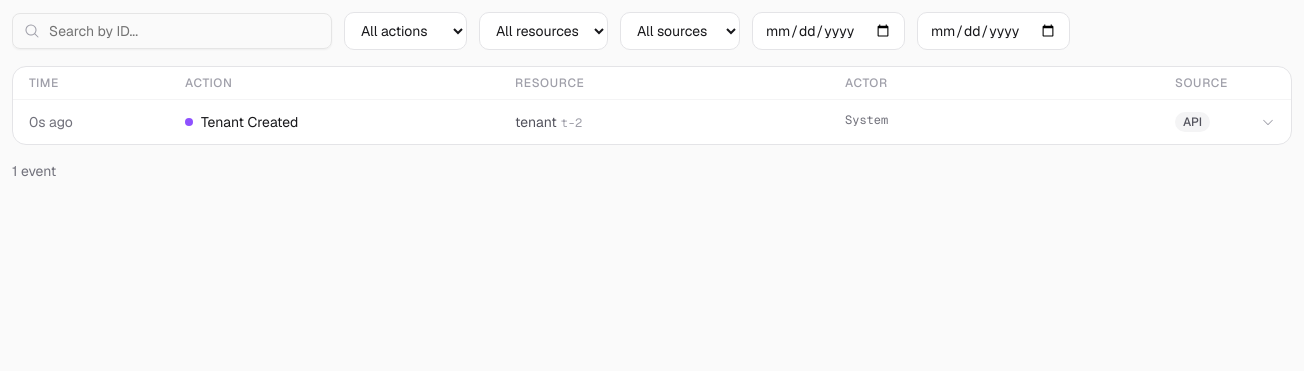
Test: AuditLog › expands row to show details with ARIA attributes
The image size is (1304, 371).
Step 1. Click the button "Tenant Created" → point(51, 122), box [13,100,1291,144]
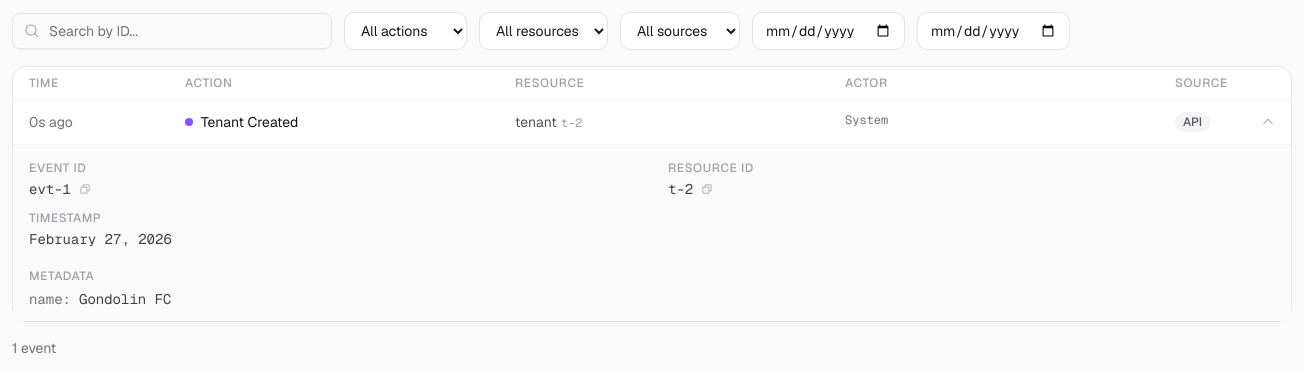
Check: the button "Tenant Created" is expanded, box [13,100,1291,144]
Check: the element named "Details for Tenant Created" is shown, box [13,144,1291,321]
Check: the text "name:" is shown, box [29,289,71,309]
